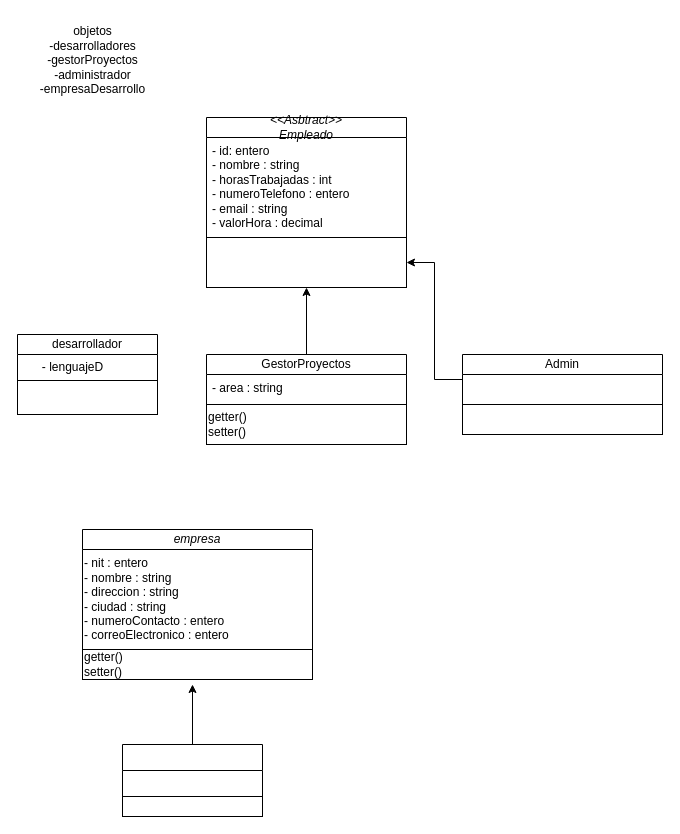
This 680x834 diagram has some shape labels left out. The centre of each missing label's shape, as x and y in pixels:
"EmpresaDesarrollo" goes at (x=192, y=770).
"float abstract : salarioBruto" goes at (x=306, y=262).
